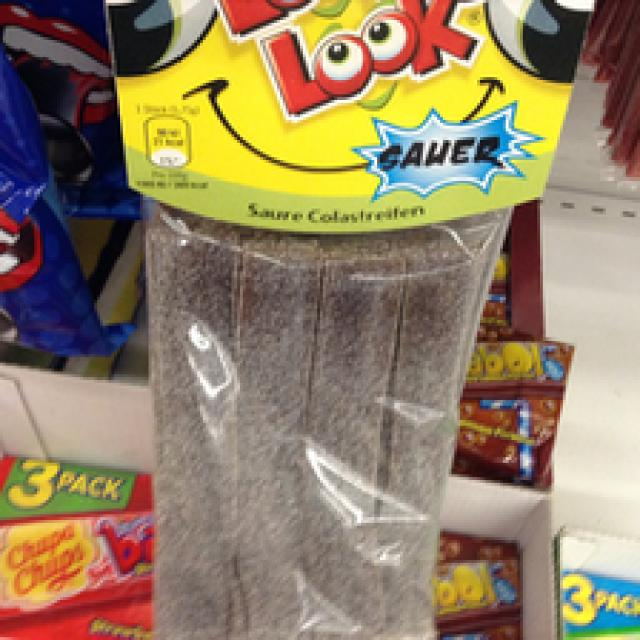groceries: (123, 0, 514, 620)
